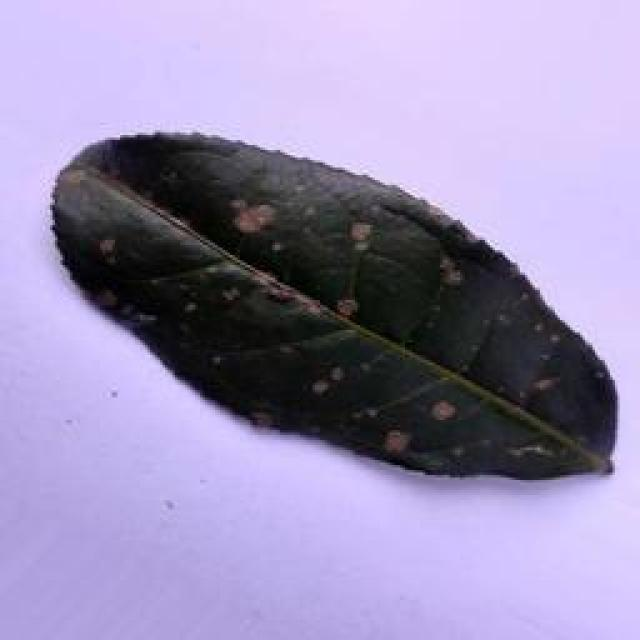Algal Leaf Spot: (46, 120, 624, 509)
